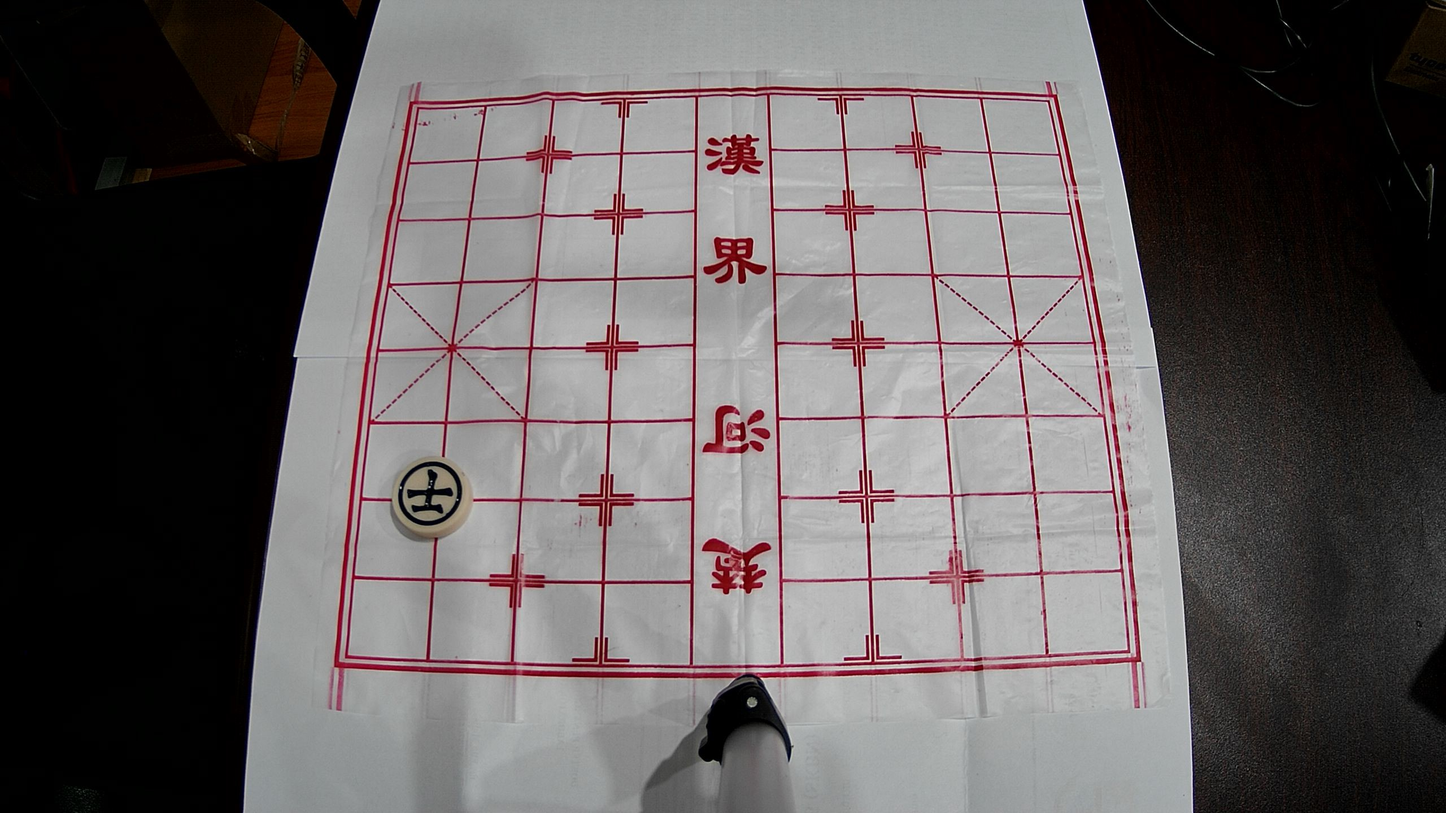Black-Guard: (392, 456, 473, 538)
